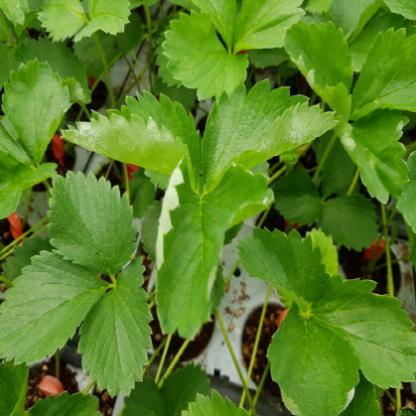Strawberry_Powdery_Mildew_Leaf: (155, 154, 276, 340), (202, 77, 340, 193), (58, 89, 202, 192), (265, 300, 363, 415), (345, 106, 413, 206)
